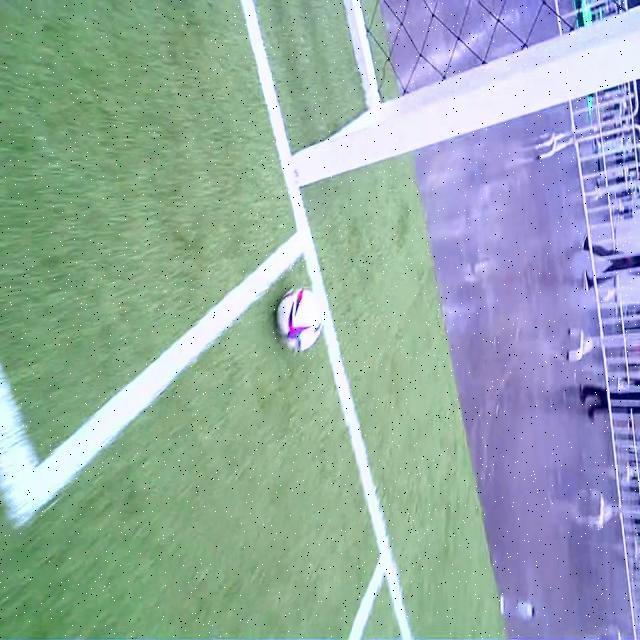ball: (276, 288, 323, 352)
